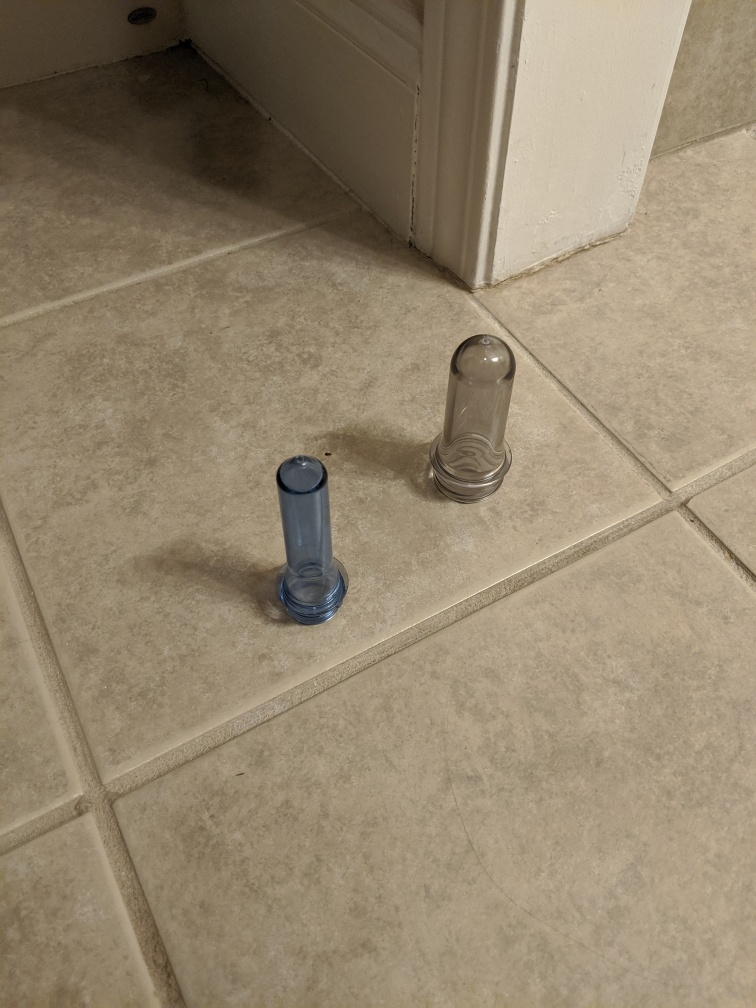preform: (414, 322, 525, 513), (267, 452, 358, 633)
